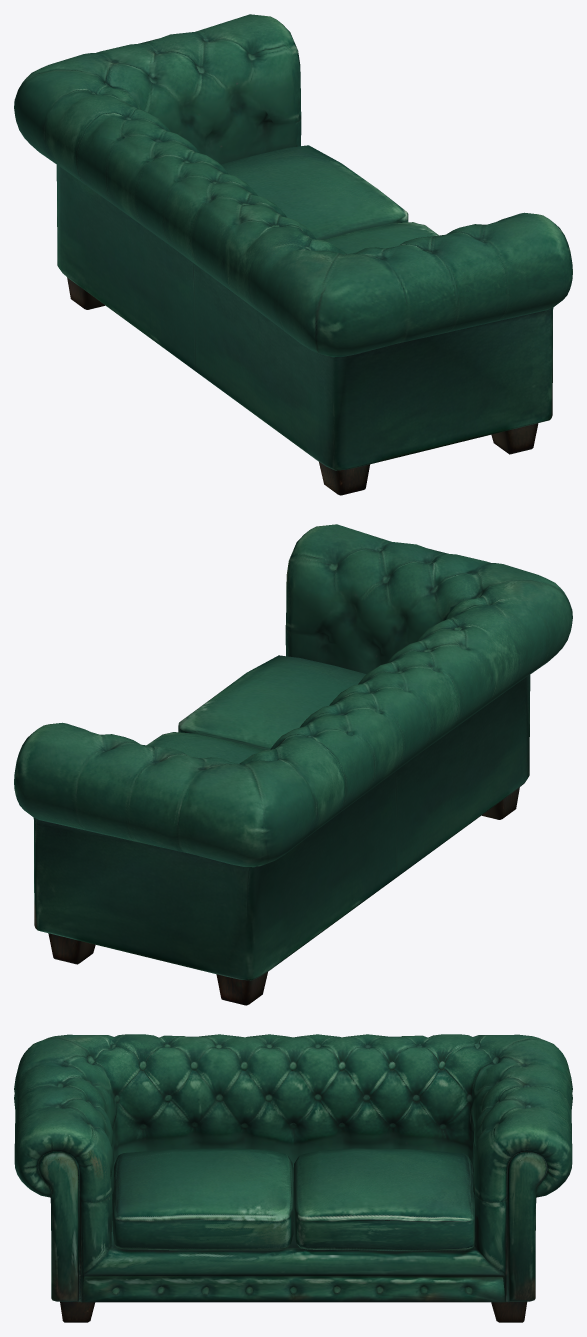
Rendered from SM_Env_BaskervilleChesterfieldSofa.fbx.
The picture shows the model from 3 angles, top to bottom: view 1: azimuth 30°, elevation 25°; view 2: azimuth 150°, elevation 25°; view 3: azimuth 270°, elevation 25°; orthographic projection. The views are drawn at different scales.
Parts seen in each view (by area): view 1: SM_Env_BaskervilleChesterfieldSofa; view 2: SM_Env_BaskervilleChesterfieldSofa; view 3: SM_Env_BaskervilleChesterfieldSofa.
Boxes of the visible parts, bbox=[...] form: SM_Env_BaskervilleChesterfieldSofa: bbox=[14, 14, 572, 495]; SM_Env_BaskervilleChesterfieldSofa: bbox=[14, 524, 572, 1005]; SM_Env_BaskervilleChesterfieldSofa: bbox=[14, 1034, 572, 1322].
Bounding box in the file's own units: 28.15 × 60.73 × 24.
Materials: 1 (1 with a texture image).
